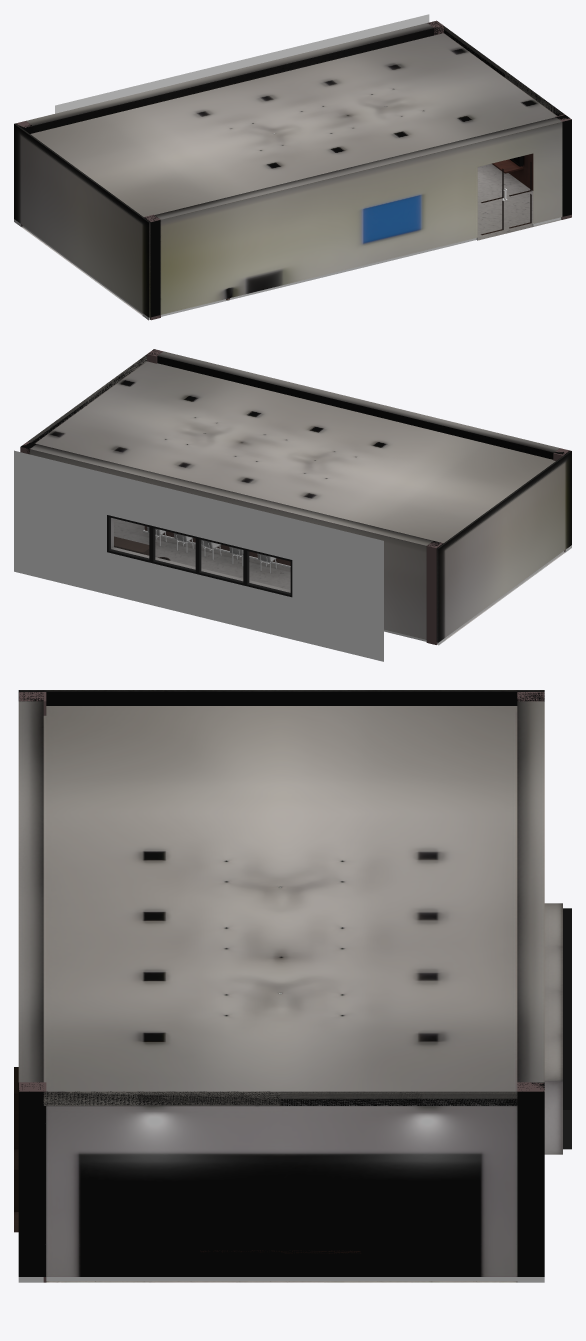
The model's file is L2- Boardroom - BR_v2.fbx.
The picture shows the model from 3 angles, top to bottom: view 1: azimuth 30°, elevation 25°; view 2: azimuth 150°, elevation 25°; view 3: azimuth 270°, elevation 25°; orthographic projection. The views are drawn at different scales.
Parts seen in each view (by area): view 1: Object_27, Object_3, Wall, Object_9, Object_28, Object_6, Object_11; view 2: Object_27, Wall, Object_25.002, Object_25.001, Object_3, Object_7.004, Object_6, Object_11, Object_9; view 3: Object_27, Object_9, Object_7.004, Object_6, Object_3, Object_11.
Boxes of the visible parts, x1=… form: Object_27: x1=14, y1=21, x2=571, y2=317; Object_3: x1=21, y1=163, x2=561, y2=315; Wall: x1=55, y1=14, x2=429, y2=113; Object_9: x1=14, y1=217, x2=561, y2=320; Object_28: x1=492, y1=153, x2=533, y2=190; Object_6: x1=16, y1=20, x2=571, y2=320; Object_11: x1=226, y1=162, x2=531, y2=299; Object_27: x1=21, y1=349, x2=571, y2=642; Wall: x1=14, y1=450, x2=383, y2=661; Object_25.002: x1=109, y1=518, x2=290, y2=593; Object_25.001: x1=111, y1=518, x2=289, y2=592; Object_3: x1=114, y1=518, x2=565, y2=640; Object_7.004: x1=107, y1=515, x2=292, y2=597; Object_6: x1=20, y1=349, x2=569, y2=644; Object_11: x1=114, y1=536, x2=170, y2=560; Object_9: x1=384, y1=545, x2=571, y2=645; Object_27: x1=18, y1=690, x2=562, y2=1276; Object_9: x1=18, y1=1277, x2=544, y2=1282; Object_7.004: x1=563, y1=908, x2=571, y2=1149; Object_6: x1=19, y1=692, x2=544, y2=1282; Object_3: x1=46, y1=1281, x2=517, y2=1282; Object_11: x1=14, y1=1067, x2=18, y2=1232.
Size of the model in its own units: 1807 by 500 by 1061.
